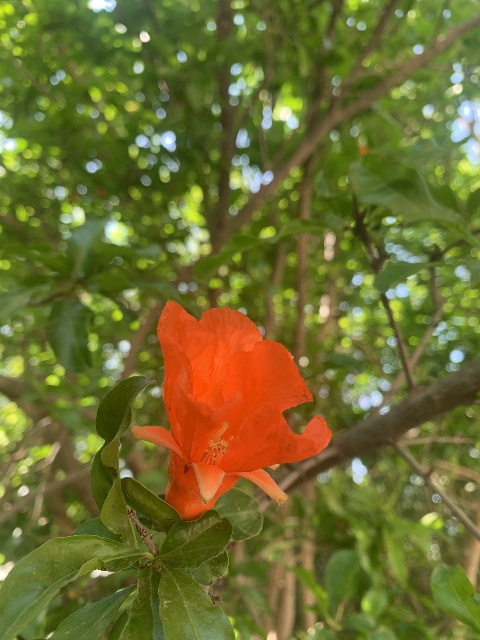flower: (134, 299, 334, 517)
